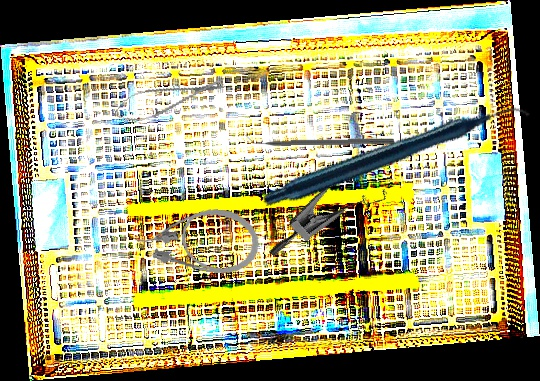Cannula: (132, 198, 264, 279)
Chopper: (244, 130, 395, 147)
Handpiece: (261, 47, 532, 269)
Micro Scissor: (110, 68, 229, 129)
Speculum: (267, 146, 397, 290)
